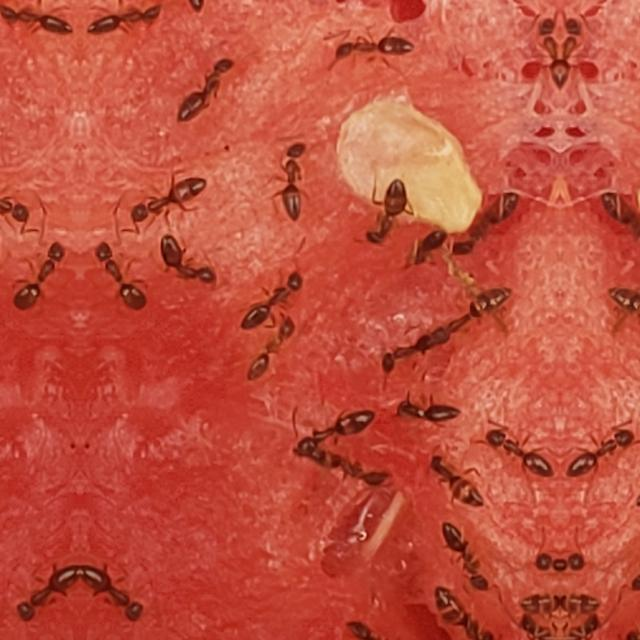Tapinoma: (416, 274, 518, 364), (283, 390, 383, 466), (118, 161, 212, 239), (448, 175, 526, 265), (371, 310, 459, 386), (84, 230, 154, 324), (6, 230, 76, 324), (168, 42, 240, 132), (81, 547, 153, 637), (7, 547, 79, 637), (232, 258, 310, 340), (476, 409, 556, 487), (294, 442, 394, 504), (564, 409, 640, 487), (327, 19, 417, 80), (437, 513, 498, 599), (150, 228, 222, 300), (422, 444, 490, 520), (358, 169, 417, 255), (242, 311, 304, 391), (268, 132, 316, 230), (426, 579, 504, 639), (83, 0, 169, 50), (594, 175, 640, 265), (0, 0, 76, 50), (391, 386, 464, 436), (602, 274, 640, 364), (338, 600, 422, 640), (0, 161, 42, 239), (401, 215, 451, 278), (622, 513, 640, 599), (530, 539, 560, 587), (519, 580, 559, 616), (616, 579, 640, 639), (560, 539, 590, 587), (561, 580, 601, 616), (515, 612, 555, 640), (565, 612, 605, 640)
